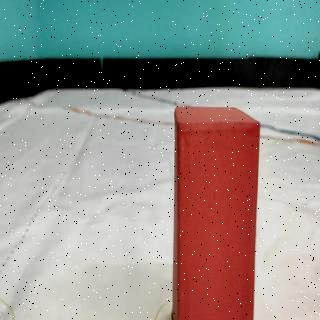redbox: (174, 109, 256, 320)
